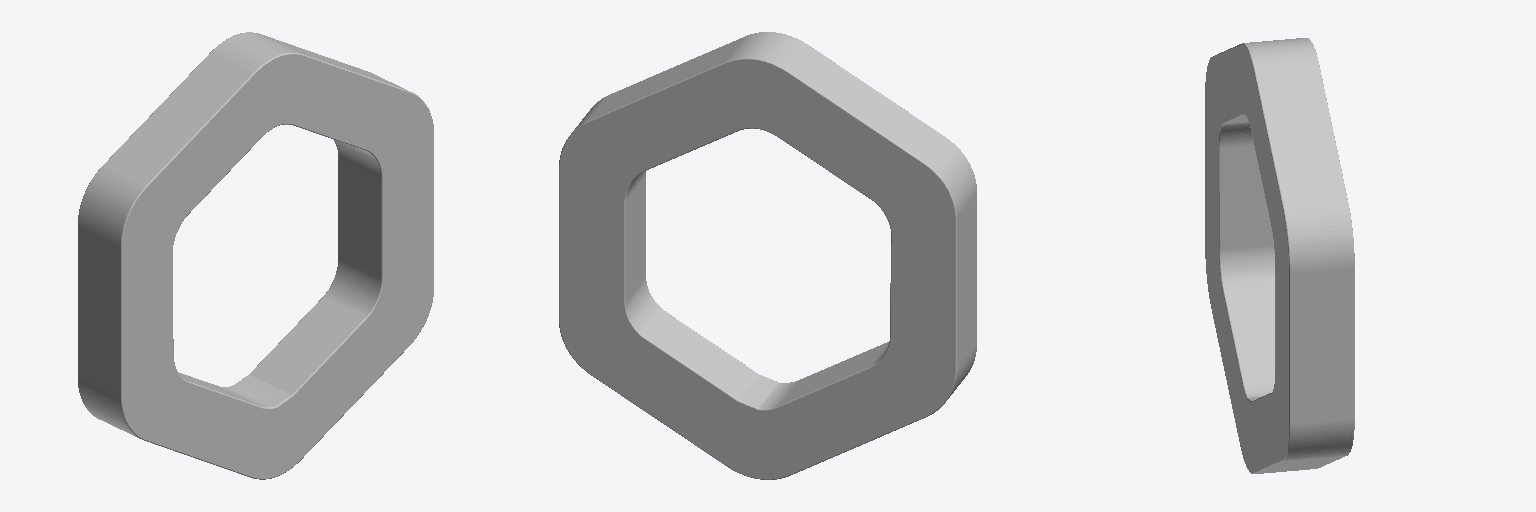
File: motion for site.obj
The picture shows the model from 3 angles: view 1: azimuth 30°, elevation 25°; view 2: azimuth 150°, elevation 25°; view 3: azimuth 270°, elevation 25°; orthographic projection.
Parts seen in each view (by area): view 1: SVGID_[number redacted]_; view 2: SVGID_[number redacted]_; view 3: SVGID_[number redacted]_.
Boxes of the visible parts, x1=… form: SVGID_[number redacted]_: x1=78, y1=32, x2=433, y2=479; SVGID_[number redacted]_: x1=559, y1=32, x2=976, y2=479; SVGID_[number redacted]_: x1=1205, y1=38, x2=1354, y2=473.
Size of the model in its own units: 0.9148 by 1 by 0.3231.